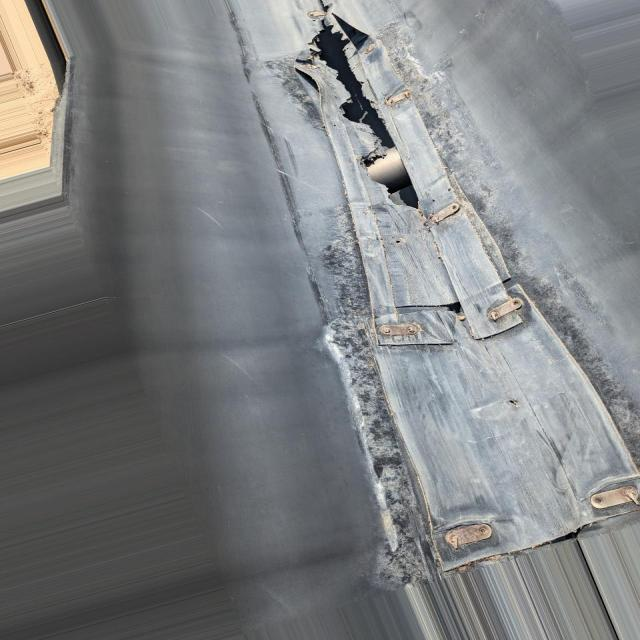Hole: (311, 34, 418, 211)
patch work: (280, 33, 640, 573)
